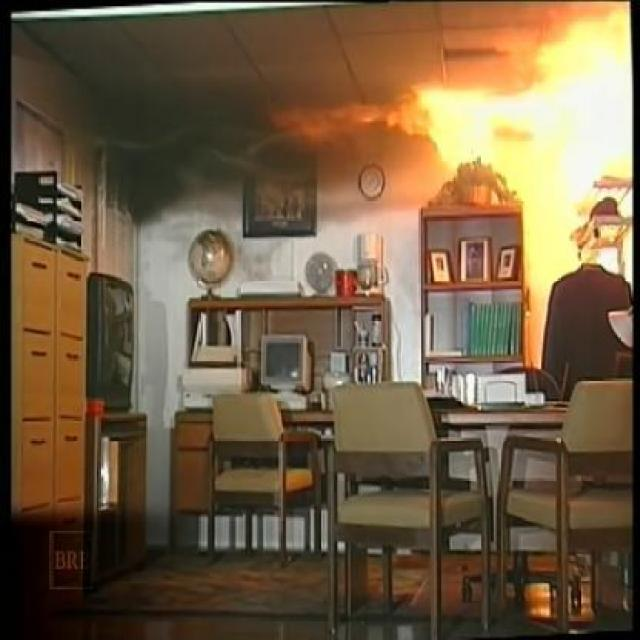fire: (420, 44, 608, 158)
smoke: (113, 86, 272, 191)
